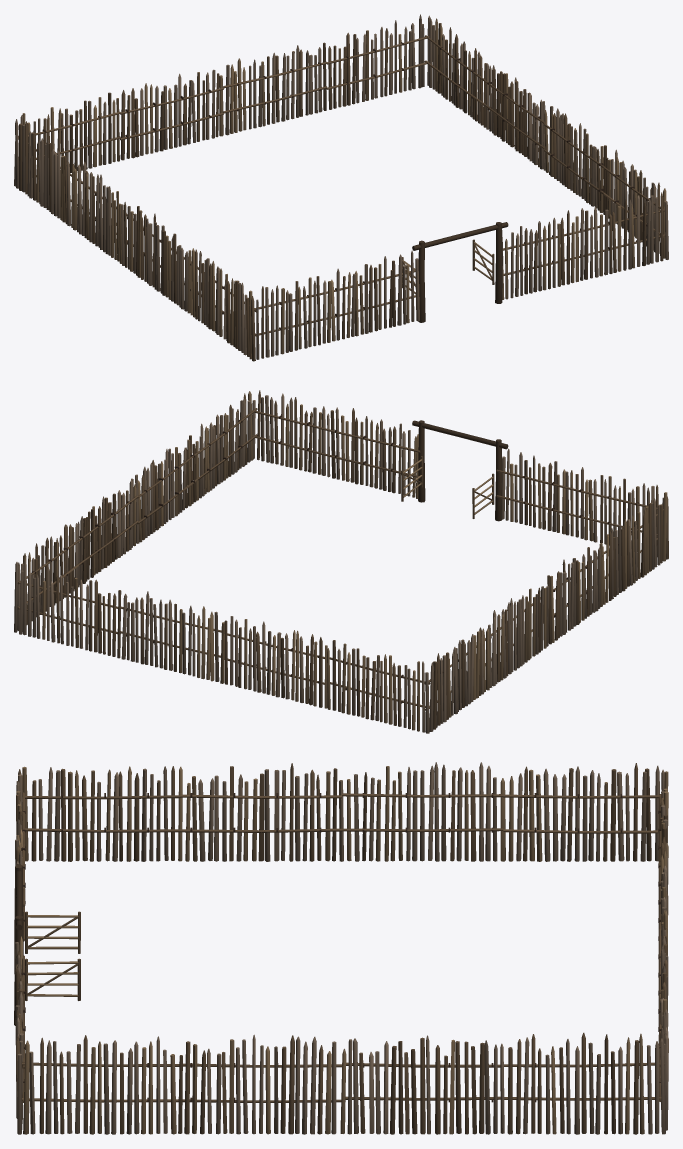
File: fortin_empalizada.glb
The picture shows the model from 3 angles, top to bottom: view 1: azimuth 30°, elevation 25°; view 2: azimuth 150°, elevation 25°; view 3: azimuth 270°, elevation 25°; orthographic projection. The views are drawn at different scales.
Visible parts, largest first — view 1: Empalizada; view 2: Empalizada; view 3: Empalizada.
Part boxes in pixels (<box>): Empalizada: <box>14,14,668,361</box>; Empalizada: <box>14,390,668,733</box>; Empalizada: <box>14,762,668,1134</box>.
Size of what is drawn, in the model's own units: 22.32 by 4.05 by 22.33.
